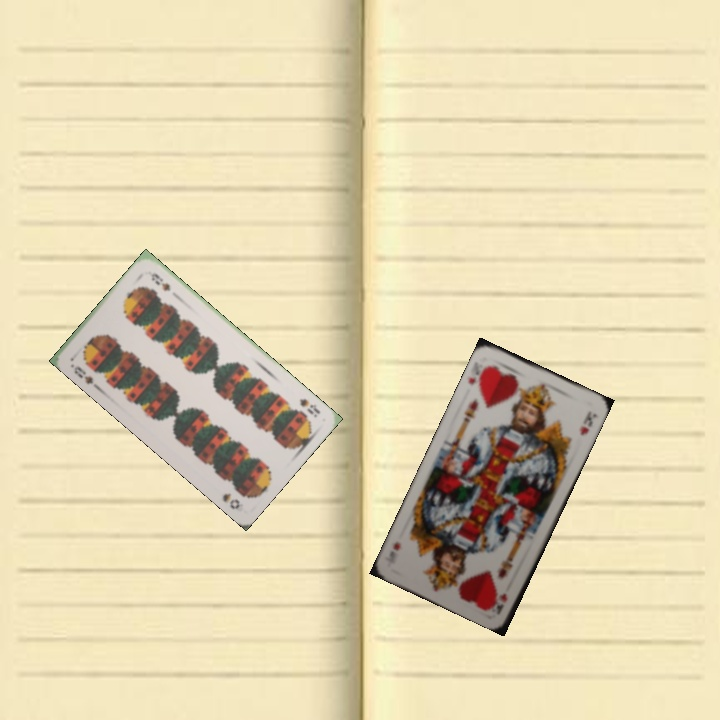HK: (464, 361, 492, 389), (492, 589, 510, 616)
S8: (295, 394, 323, 420), (70, 362, 96, 387)
